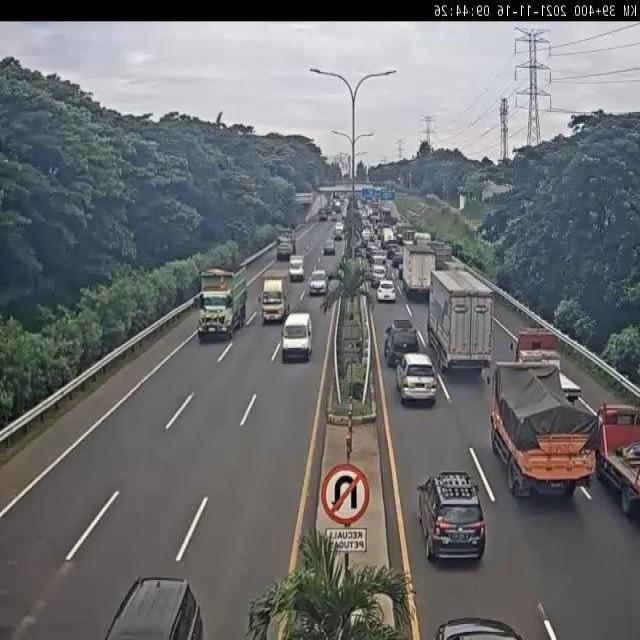Car: (101, 576, 205, 640), (418, 474, 486, 562), (394, 352, 438, 406), (434, 616, 528, 640), (383, 318, 419, 368), (560, 372, 582, 403), (308, 268, 328, 295), (288, 255, 306, 282), (376, 279, 396, 303), (371, 264, 387, 286), (323, 239, 336, 255), (334, 222, 344, 237)
Truck: (486, 362, 596, 497), (428, 267, 493, 373), (595, 406, 640, 520), (195, 261, 250, 342), (403, 242, 437, 298), (258, 270, 290, 322), (276, 229, 296, 259)
Van: (282, 312, 313, 362)
